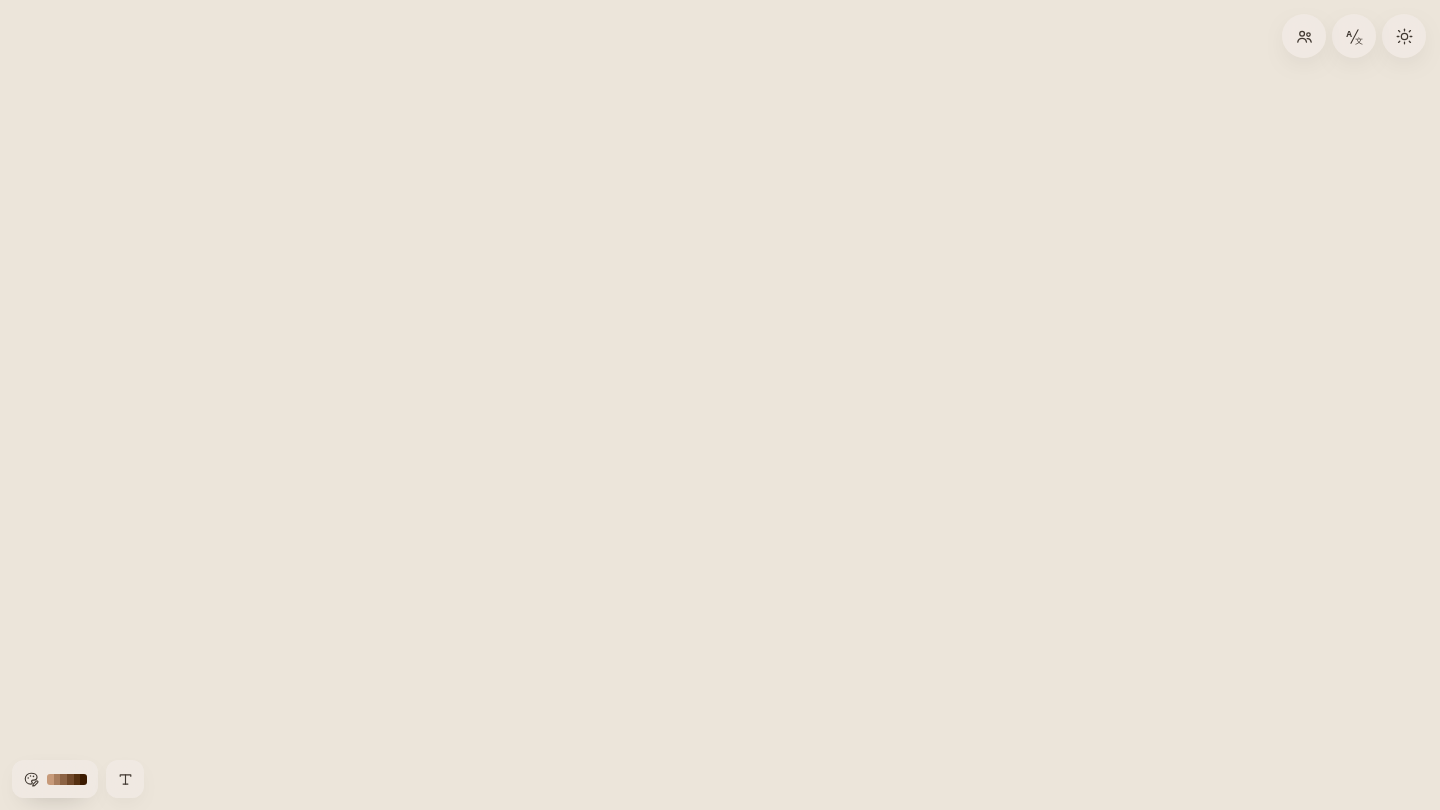
Scenario: the community button cycles through three states › first click: pressed, the leaderboard page opens as a dialog
Step 1. Click the button with class "community-quick" → [1304, 36], box [1282,14,1326,58]
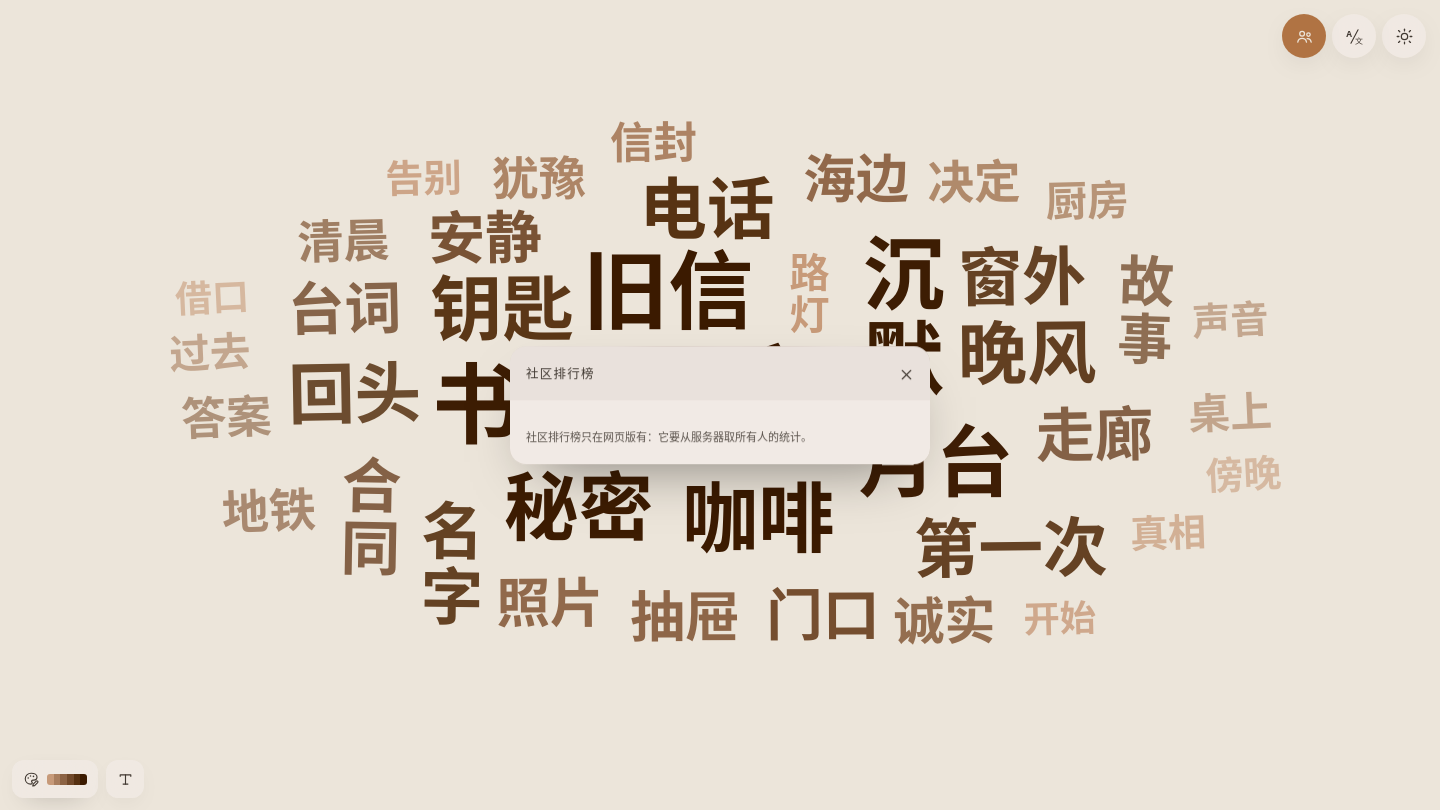
Now the dialog "社区排行榜" is shown, box [510,346,930,464]
